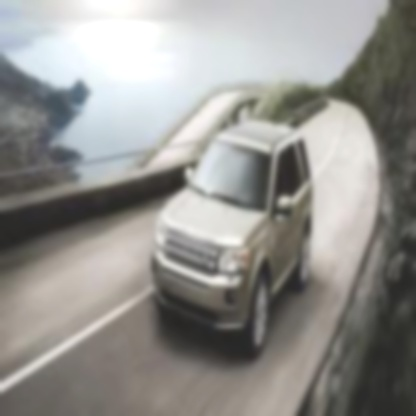Vehicle: (150, 121, 318, 358)
